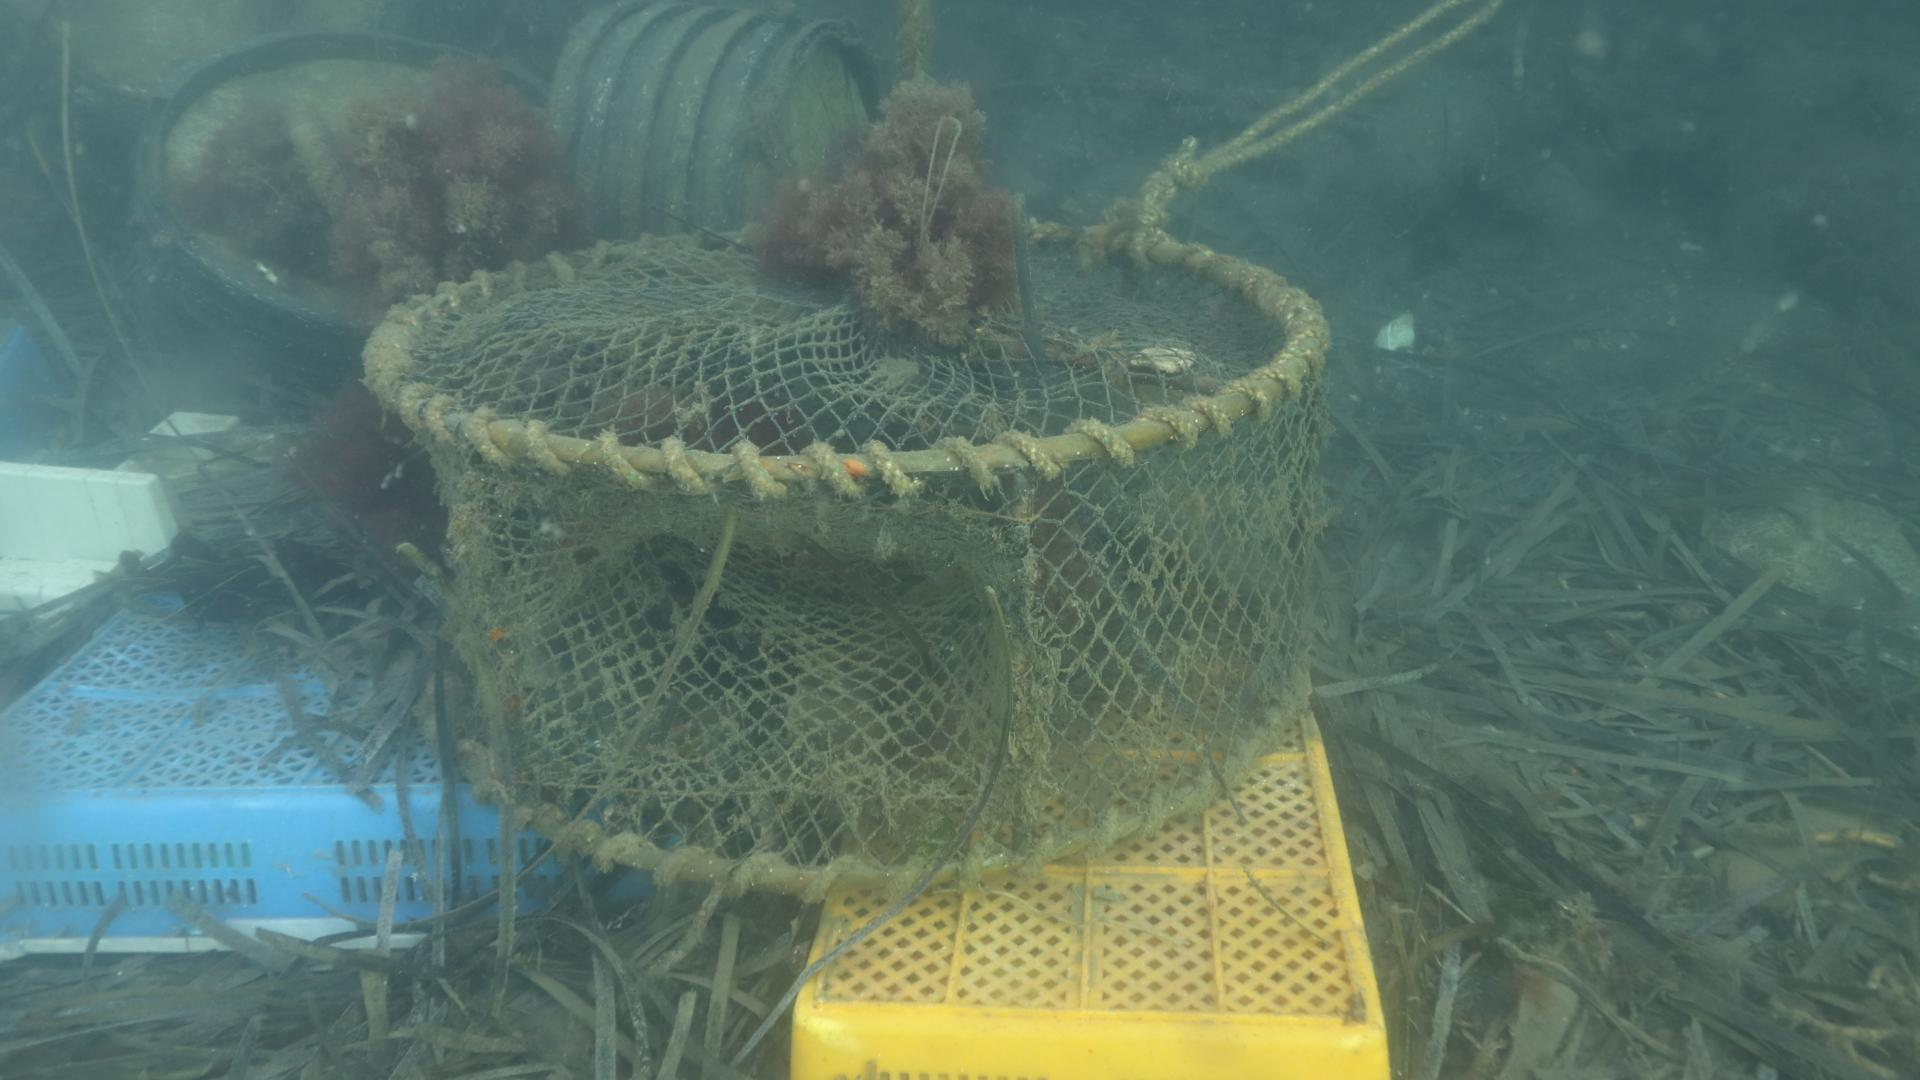bundle of ropes: (1125, 0, 1501, 233)
circular fish trap: (357, 214, 1335, 905)
